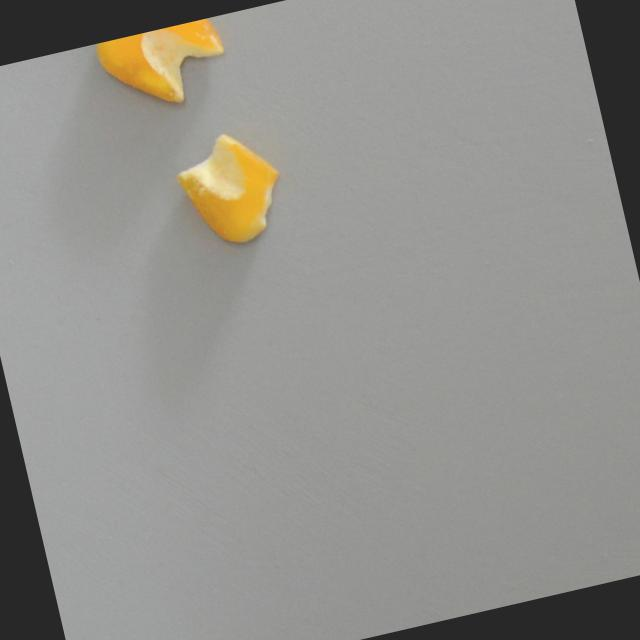no_canjicado: (168, 122, 290, 254), (95, 15, 234, 120)
